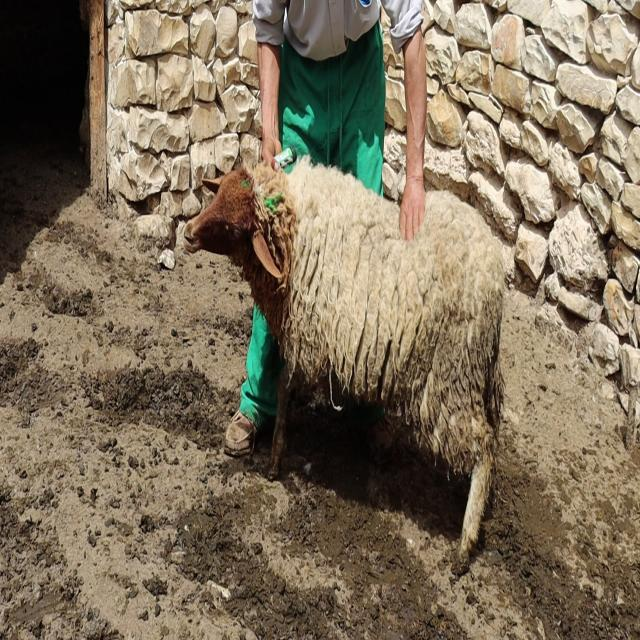Score_2: (184, 159, 506, 556)
